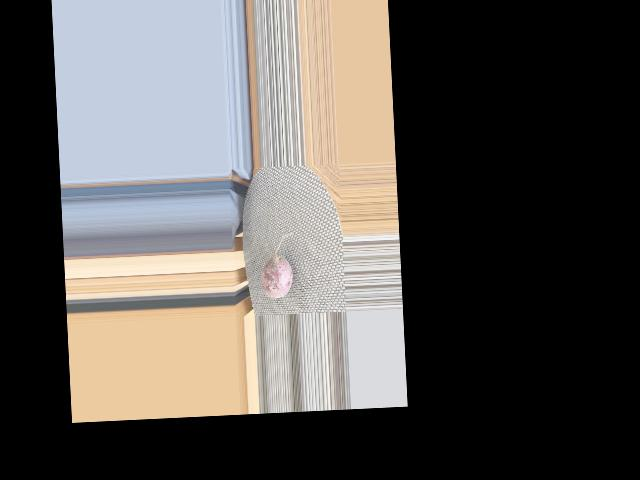beet: (258, 232, 297, 298)
